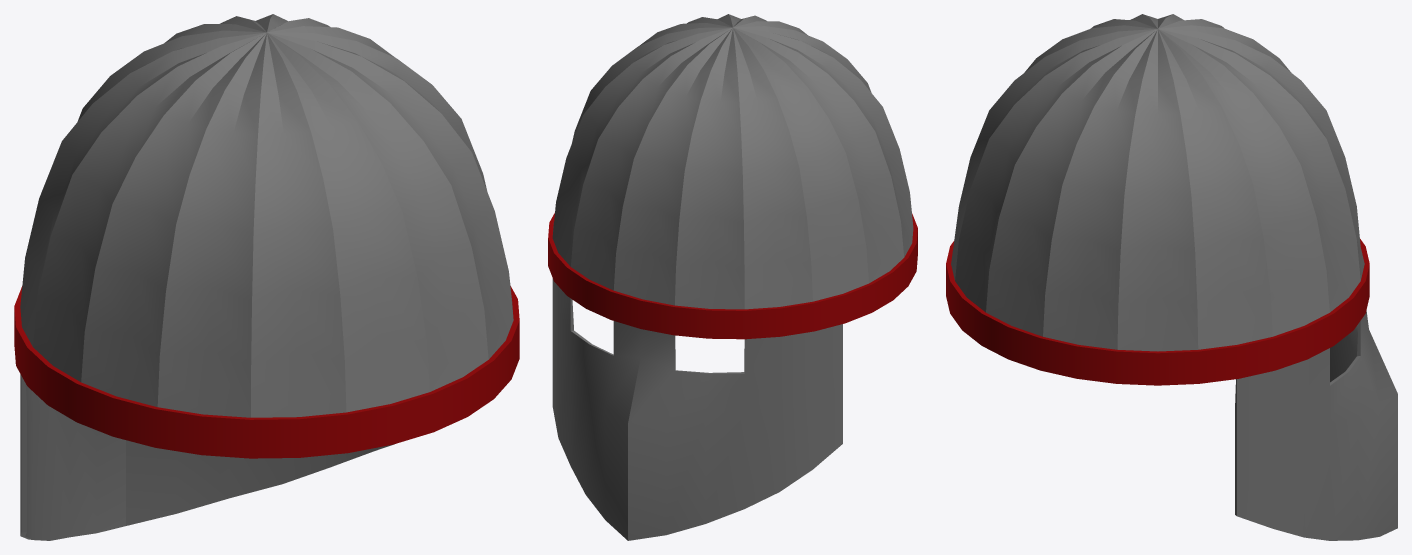
File: enclosed conical smart helmet.fbx
The picture shows the model from 3 angles, left to right: view 1: azimuth 30°, elevation 25°; view 2: azimuth 150°, elevation 25°; view 3: azimuth 270°, elevation 25°; orthographic projection. The views are drawn at different scales.
Visible parts, largest first — view 1: Sphere; view 2: Sphere; view 3: Sphere.
Boxes of the visible parts, x1,y1,x2,y2 form: Sphere: (14, 14, 519, 540); Sphere: (548, 14, 917, 540); Sphere: (946, 14, 1397, 540).
Size of the model in its own units: 205 by 266 by 219.
